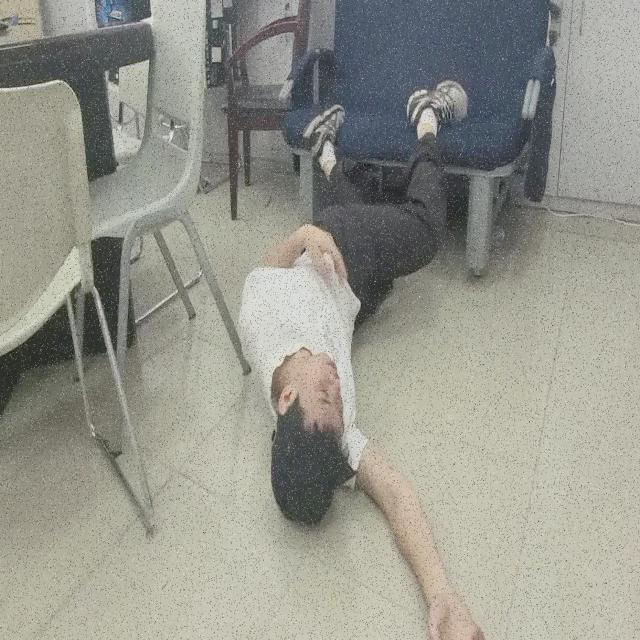fall: (238, 76, 490, 640)
